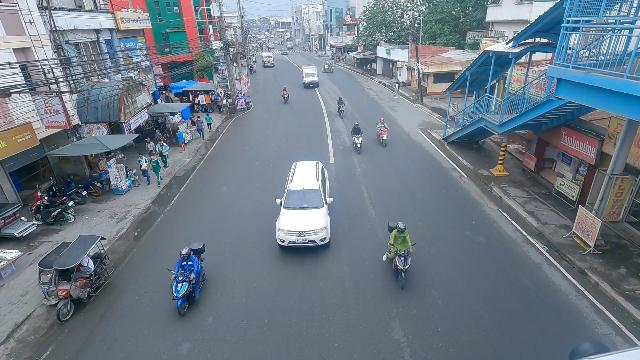car: (271, 159, 332, 251), (280, 48, 289, 55)
jeepney: (261, 52, 276, 69)
motorcycle: (168, 239, 211, 317), (382, 219, 415, 292), (374, 121, 390, 149), (350, 127, 364, 155), (336, 99, 345, 118), (280, 89, 290, 105), (248, 63, 254, 74)
van: (299, 64, 321, 90)
